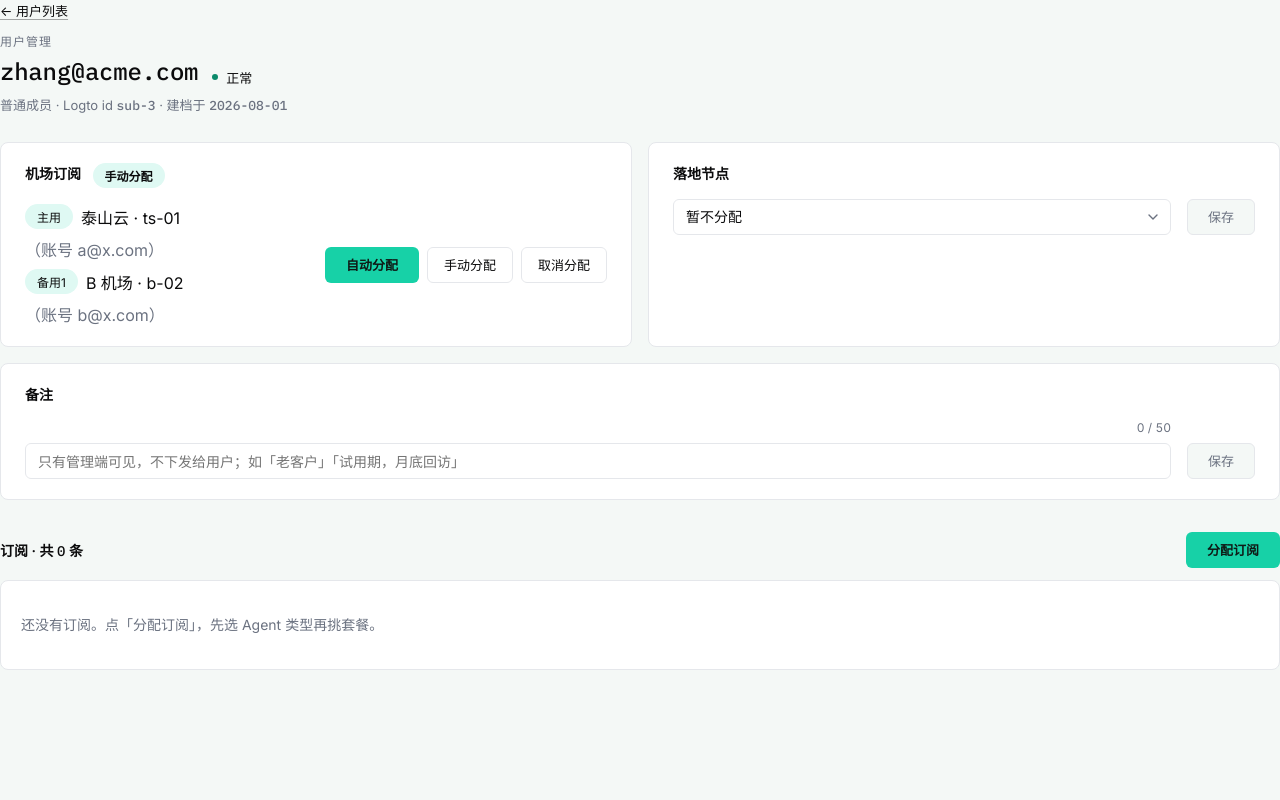
Scenario: UserDetailView · 第一跳 › 手动分配的列表在标题旁标出「手动分配」；点「手动分配」打开弹窗
The image size is (1280, 800).
Check: the text with class "manual-pill" reads "手动分配", box [104,169,152,184]
Click the button "手动分配" at (470, 265), box [427,247,513,283]
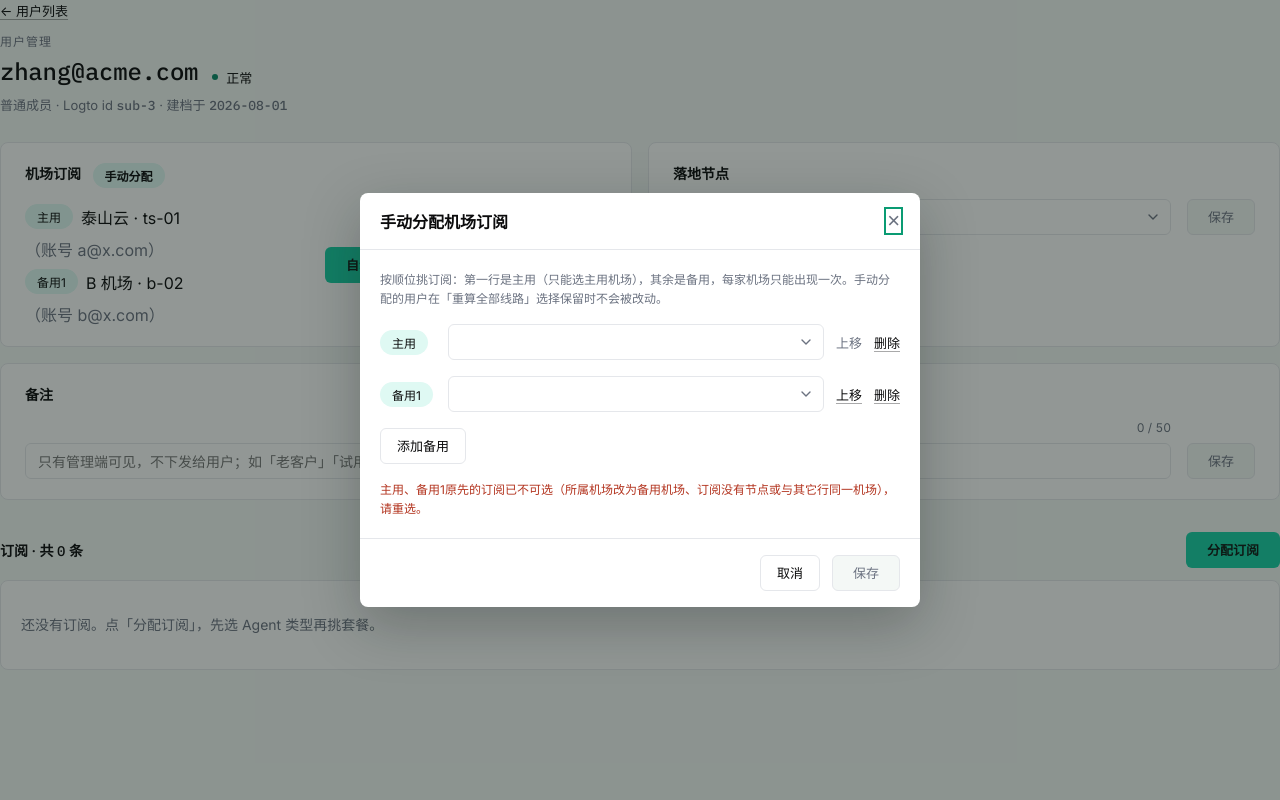
Check: the text "手动分配机场订阅" is shown, box [380,209,508,233]
